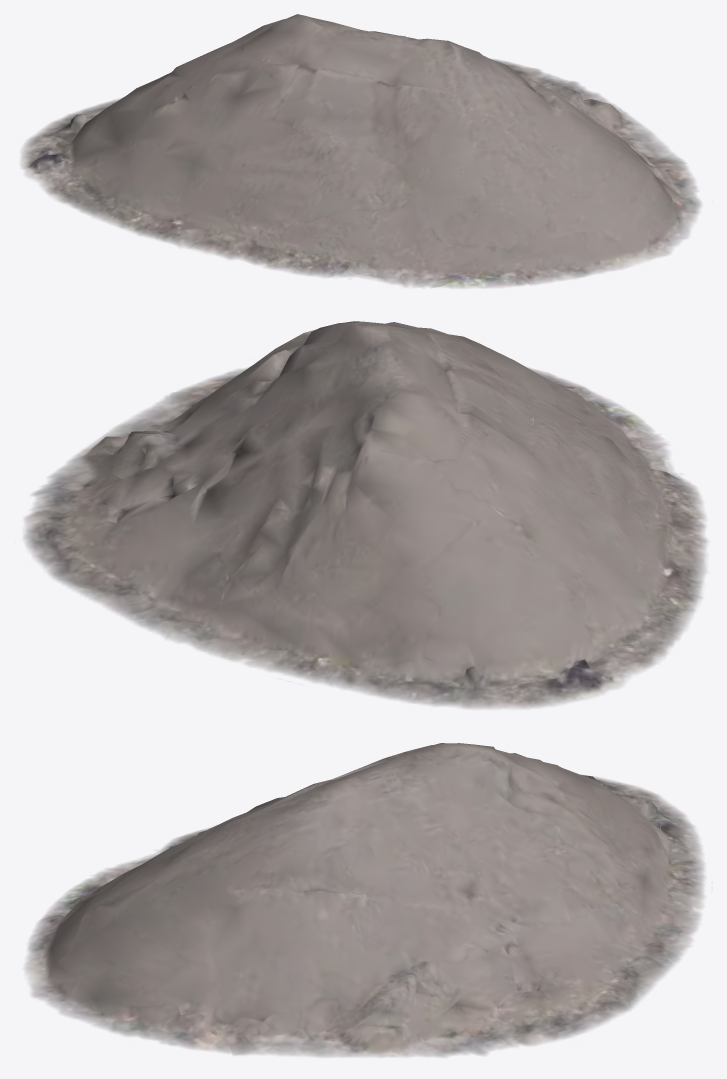
The model's file is PRP_SaltPile_lod.glb.
3 renders of one model, top to bottom at view 1: azimuth 30°, elevation 25°; view 2: azimuth 150°, elevation 25°; view 3: azimuth 270°, elevation 25°, orthographic. The views are drawn at different scales.
Parts seen in each view (by area): view 1: hromada_pisek_01_30k_hromada_pisek_01_30k_Material_0; view 2: hromada_pisek_01_30k_hromada_pisek_01_30k_Material_0; view 3: hromada_pisek_01_30k_hromada_pisek_01_30k_Material_0.
Part boxes in pixels (x1,y1,x2,y2): hromada_pisek_01_30k_hromada_pisek_01_30k_Material_0: [20, 14, 701, 288]; hromada_pisek_01_30k_hromada_pisek_01_30k_Material_0: [23, 321, 707, 709]; hromada_pisek_01_30k_hromada_pisek_01_30k_Material_0: [24, 743, 705, 1057].
Size of the model in its own units: 5.12 by 1.27 by 5.15.
1 material, 1 textured.
